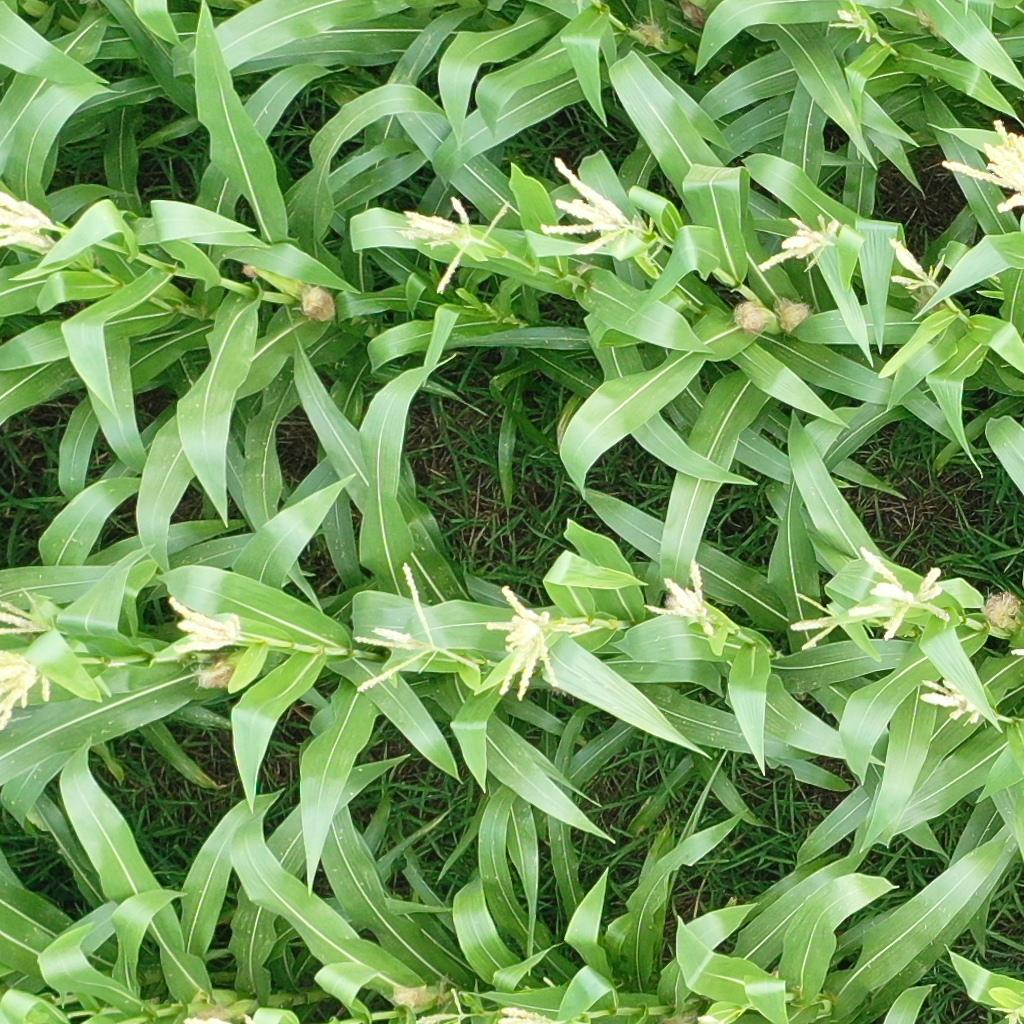Tassel: (344, 563, 481, 698), (533, 156, 667, 267), (395, 196, 512, 298), (848, 547, 950, 643), (485, 587, 562, 705), (939, 117, 1024, 215), (641, 560, 716, 637), (755, 212, 841, 271), (167, 599, 242, 659), (1, 648, 53, 734), (1, 189, 62, 253), (890, 236, 951, 295), (920, 675, 986, 727), (790, 591, 840, 652), (1, 587, 56, 640), (415, 989, 469, 1024), (828, 1, 873, 40), (549, 613, 609, 641), (493, 1004, 557, 1024), (989, 1004, 1024, 1024)
